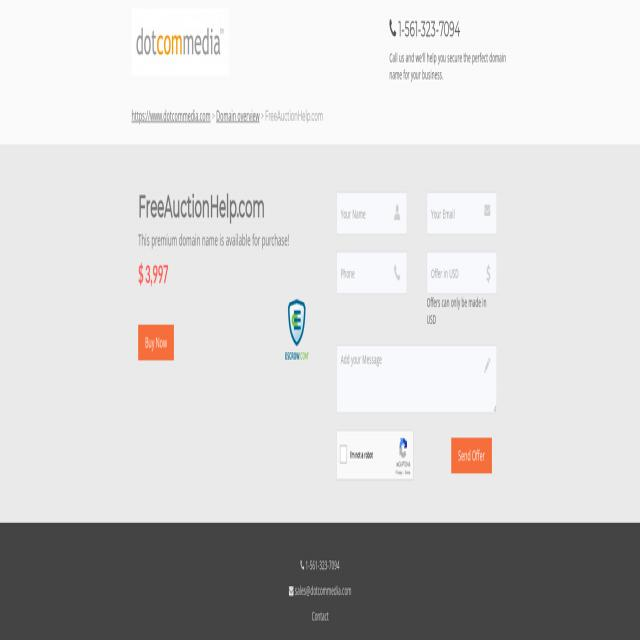button: (131, 8, 229, 76), (451, 438, 492, 473), (286, 299, 308, 360), (138, 324, 174, 360)
field: (337, 346, 496, 413), (337, 192, 407, 235), (427, 192, 497, 235), (337, 252, 407, 294), (427, 252, 497, 294), (340, 446, 347, 464)
